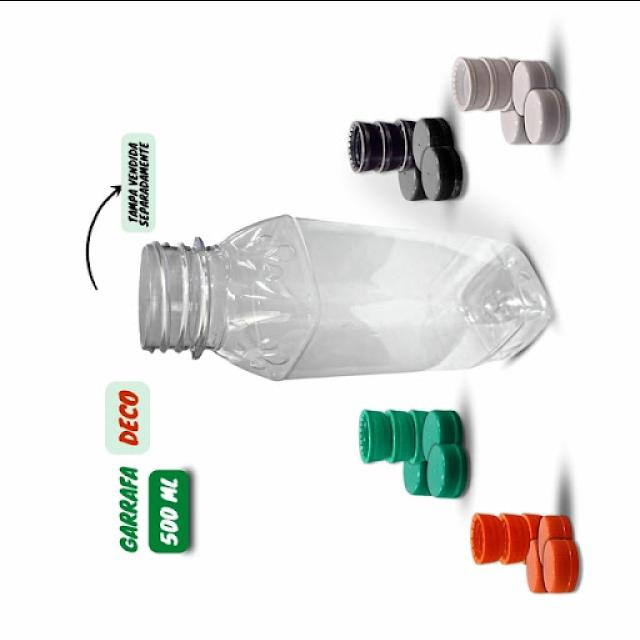bottom: (457, 234, 552, 380)
cap: (517, 96, 559, 150), (428, 441, 468, 497), (427, 145, 466, 202), (508, 54, 554, 100), (540, 541, 581, 591), (454, 57, 488, 111), (468, 512, 501, 567), (360, 403, 388, 465), (532, 508, 573, 546), (421, 404, 455, 448), (391, 166, 429, 203), (411, 121, 451, 154), (351, 119, 375, 173), (390, 408, 412, 461), (379, 124, 404, 168)
no_cap: (126, 232, 225, 364)
